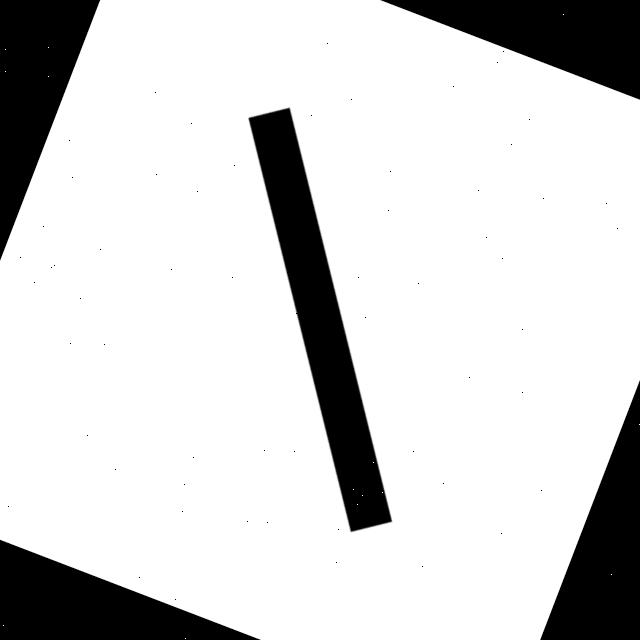line: (247, 108, 392, 532)
